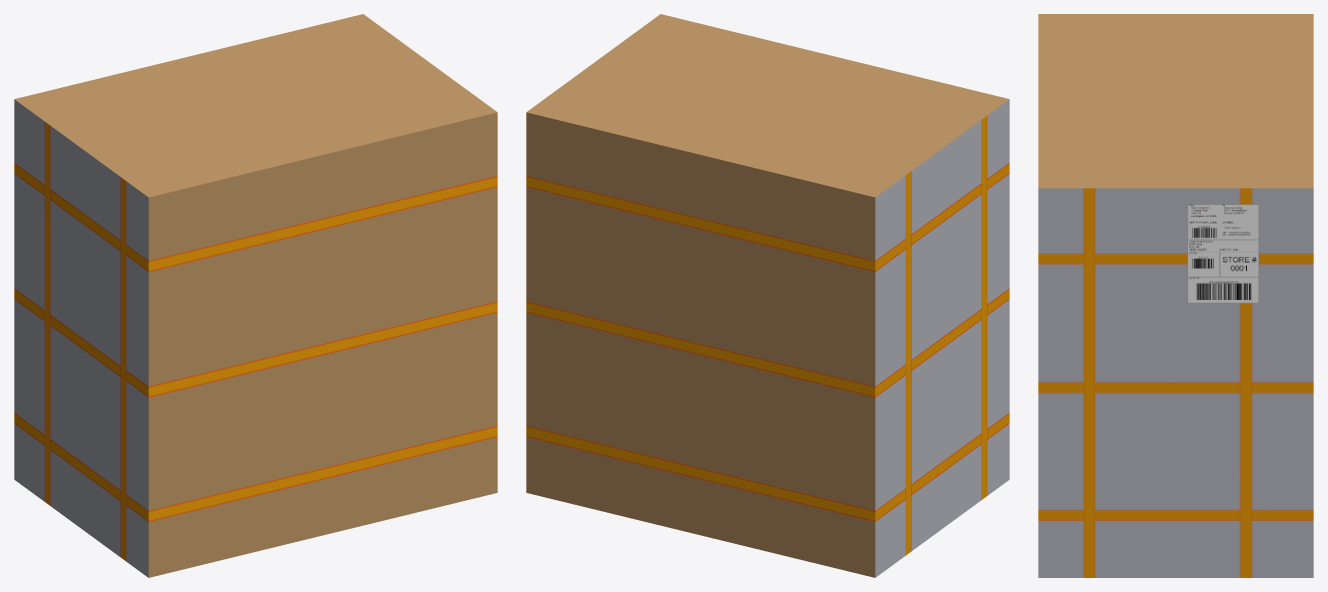
The model's file is big_box.dae.
The picture shows the model from 3 angles, left to right: view 1: azimuth 30°, elevation 25°; view 2: azimuth 150°, elevation 25°; view 3: azimuth 270°, elevation 25°; orthographic projection. The views are drawn at different scales.
Visible parts, largest first — view 1: Uline_S-3878_Box (×3); view 2: Uline_S-3878_Box (×3); view 3: Uline_S-3878_Box (×2).
Boxes of the visible parts, <box> form: Uline_S-3878_Box (×3): <box>14,14,497,577</box>; Uline_S-3878_Box (×3): <box>526,14,1009,577</box>; Uline_S-3878_Box (×2): <box>1038,14,1313,577</box>.
Size of the model in its own units: 120 by 80 by 125.
